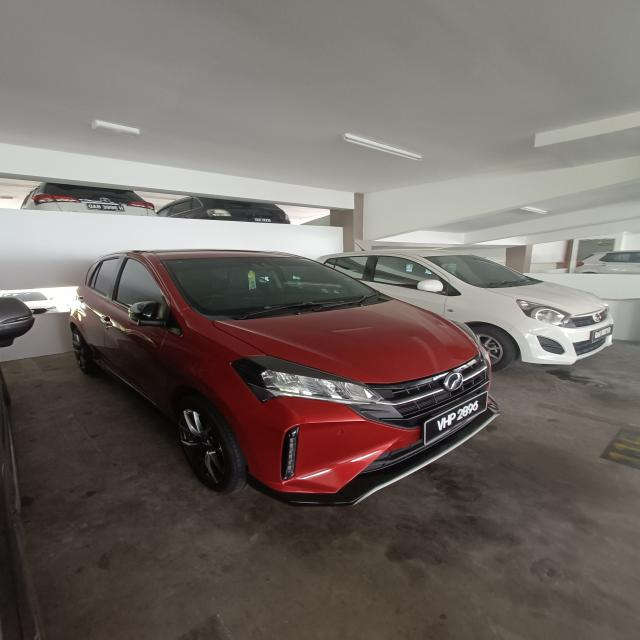PeroduaAxia: (68, 248, 501, 507)
